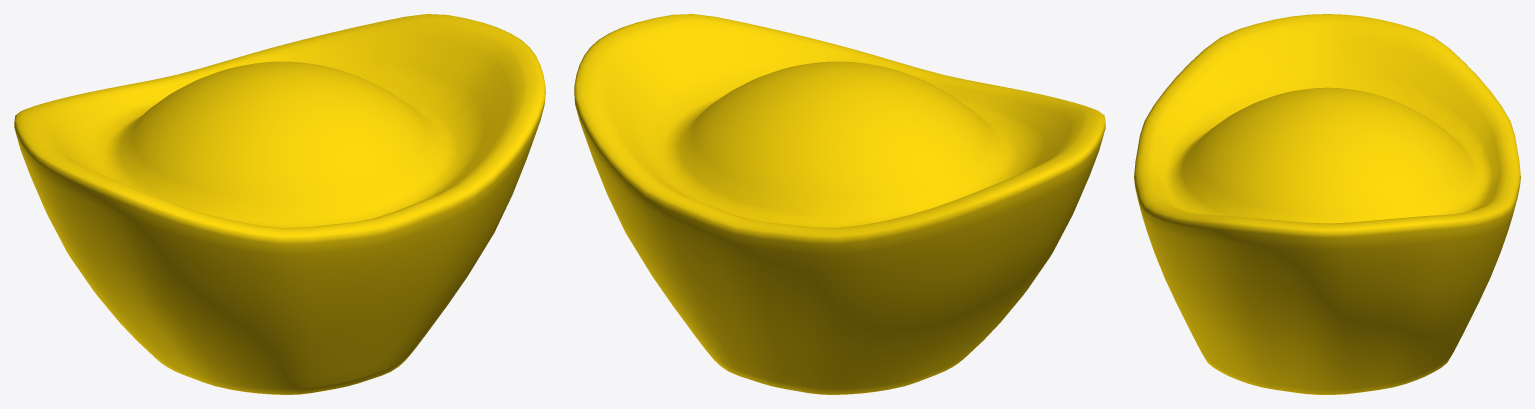
Rendered from gold.fbx.
The picture shows the model from 3 angles, left to right: view 1: azimuth 30°, elevation 25°; view 2: azimuth 150°, elevation 25°; view 3: azimuth 270°, elevation 25°; orthographic projection. The views are drawn at different scales.
Visible parts, largest first — view 1: objSphere03; view 2: objSphere03; view 3: objSphere03.
Part boxes in pixels (<box>): objSphere03: <box>14,14,545,394</box>; objSphere03: <box>574,14,1105,394</box>; objSphere03: <box>1134,14,1520,394</box>.
Bounding box in the file's own units: 10000 × 5192 × 7498.
